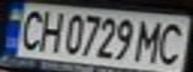0: (60, 10, 84, 56)
2: (96, 14, 121, 61)
7: (78, 11, 103, 58)
9: (115, 15, 139, 62)
C: (151, 19, 190, 66), (12, 7, 48, 52)
H: (33, 7, 66, 53)
M: (133, 17, 166, 64)
